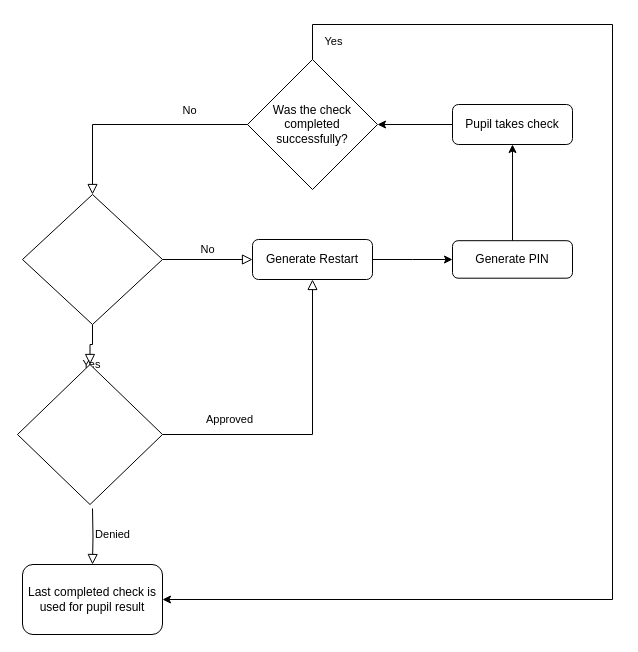
This 638x652 diagram has some shape labels left out. The shapes that lost their labels are listed below. From the top down, each one's box as (x1, y1, x2, y2) in pixels, then its label:
(22, 194, 162, 324): Has the pupil taken 2 restarts already?
(16, 364, 162, 504): School requests a discretionary restart from STA
